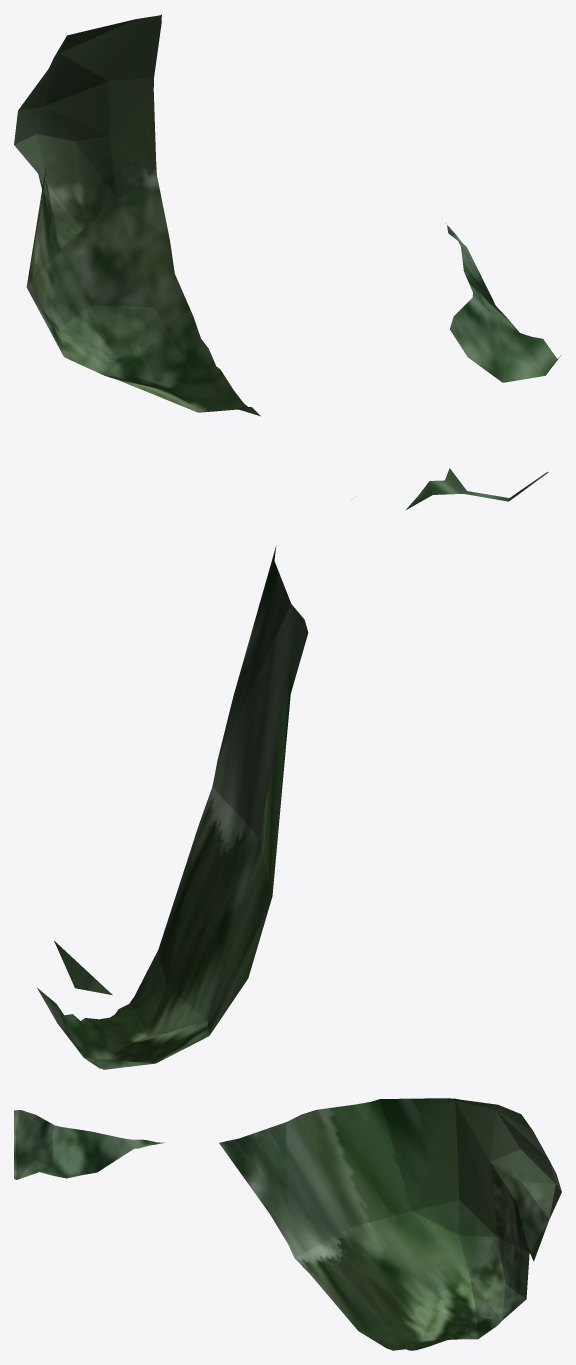
3 renders of one model, top to bottom at view 1: azimuth 30°, elevation 25°; view 2: azimuth 150°, elevation 25°; view 3: azimuth 270°, elevation 25°, orthographic. The views are drawn at different scales.
Bounding box in the file's own units: 0.5193 × 0.9698 × 2.29.
1 material, 1 textured.
